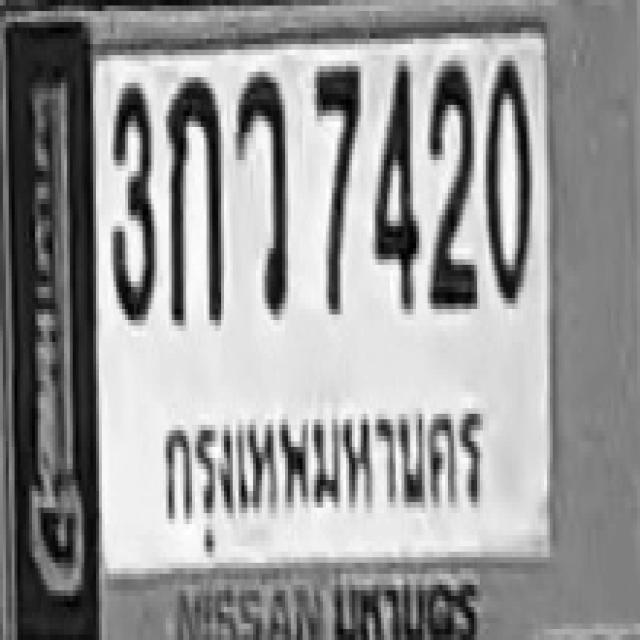0: (483, 55, 529, 298)
10GorGai: (166, 72, 221, 320)
2: (426, 55, 476, 304)
3: (108, 75, 154, 318)
4: (372, 58, 416, 306)
46WorWaen: (233, 66, 285, 309)
7: (311, 61, 358, 309)
Bangkok: (148, 393, 487, 561)
